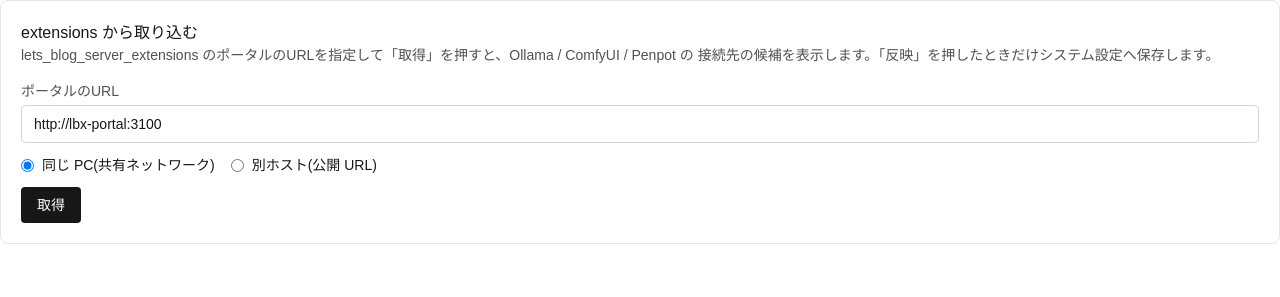
Scenario: ExtensionsImportPanel(issue #1783) › 候補が空なら取り込める接続先が無いと案内し、反映ボタンを出さない
Click the button "取得".
click(51, 205)  # box [21, 187, 81, 223]
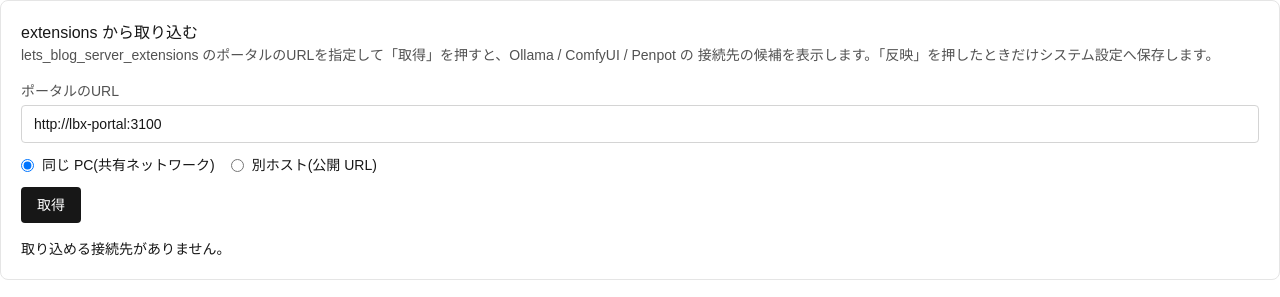
Now the text "取り込める接続先がありません。" is shown, box [21, 241, 231, 257]
